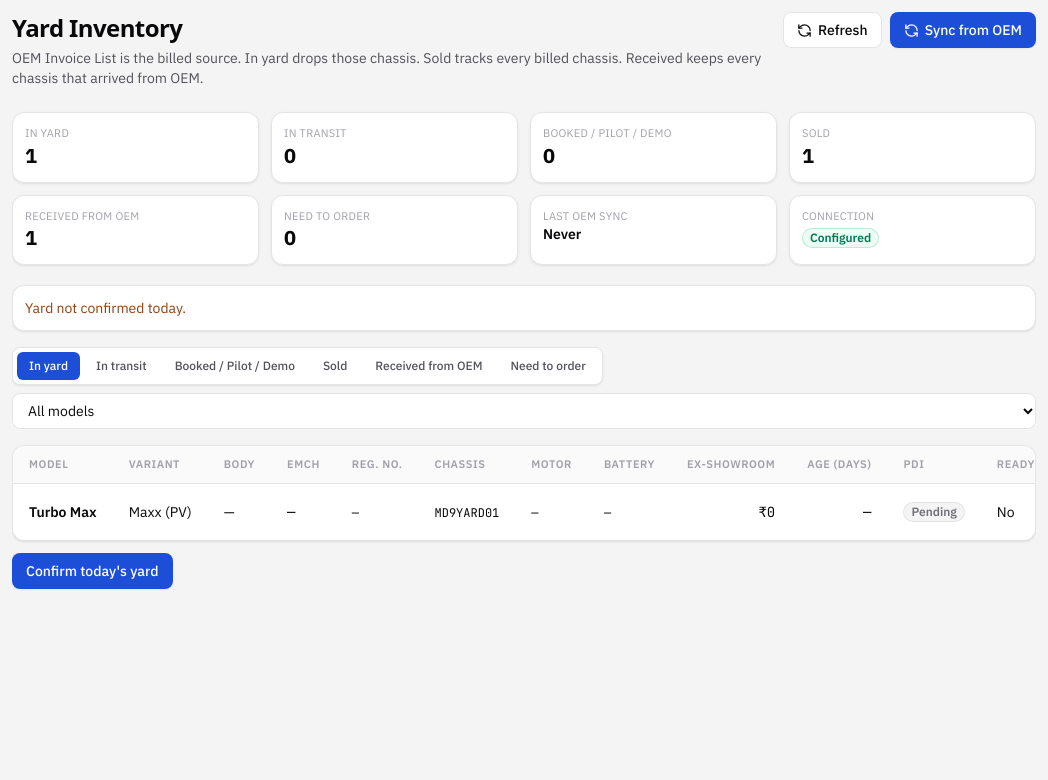
Test: inventory register has sold and received tabs
This screenshot has width=1048, height=780.
Later steps or results of the test are not shown.
Expected: the button with test id "inv-tab-received" is shown, [363, 352, 494, 380]
Expected: the element with test id "inv-card-sold" shows "1", [802, 142, 814, 168]
Click the button with test id "inv-tab-sold". click: [335, 366]
box: [311, 352, 359, 380]
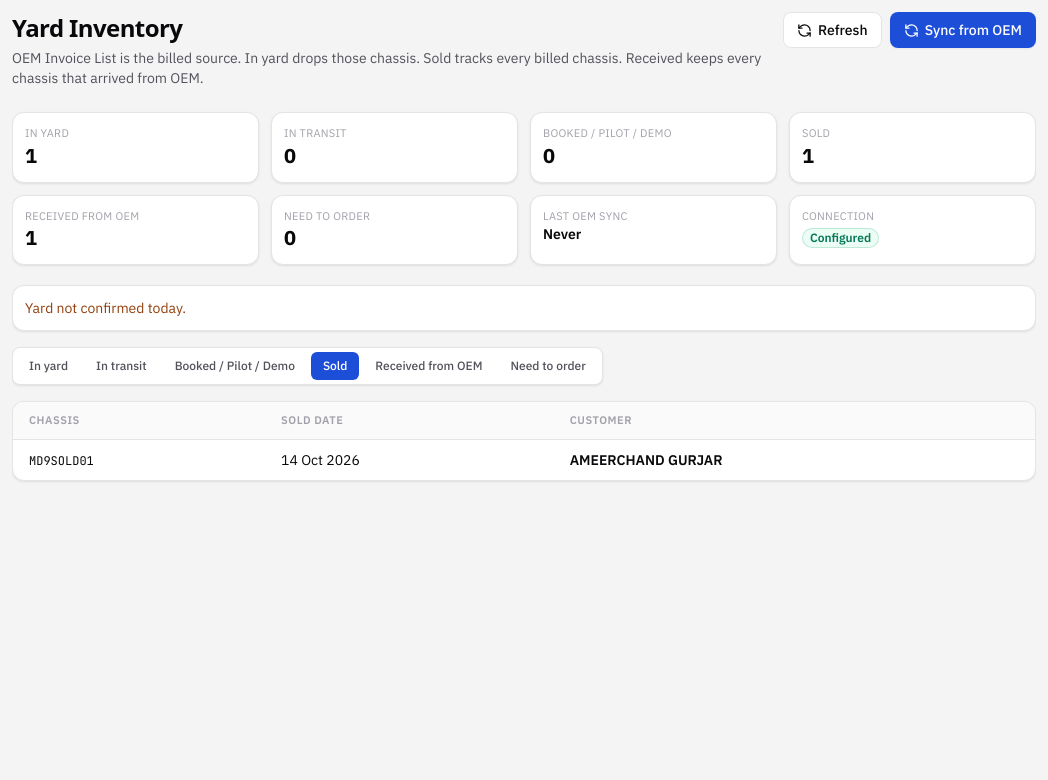
Result: the text "AMEERCHAND GURJAR" is shown at [570, 450, 723, 468]
Result: the text "MD9SOLD01" is shown at [29, 452, 94, 468]
